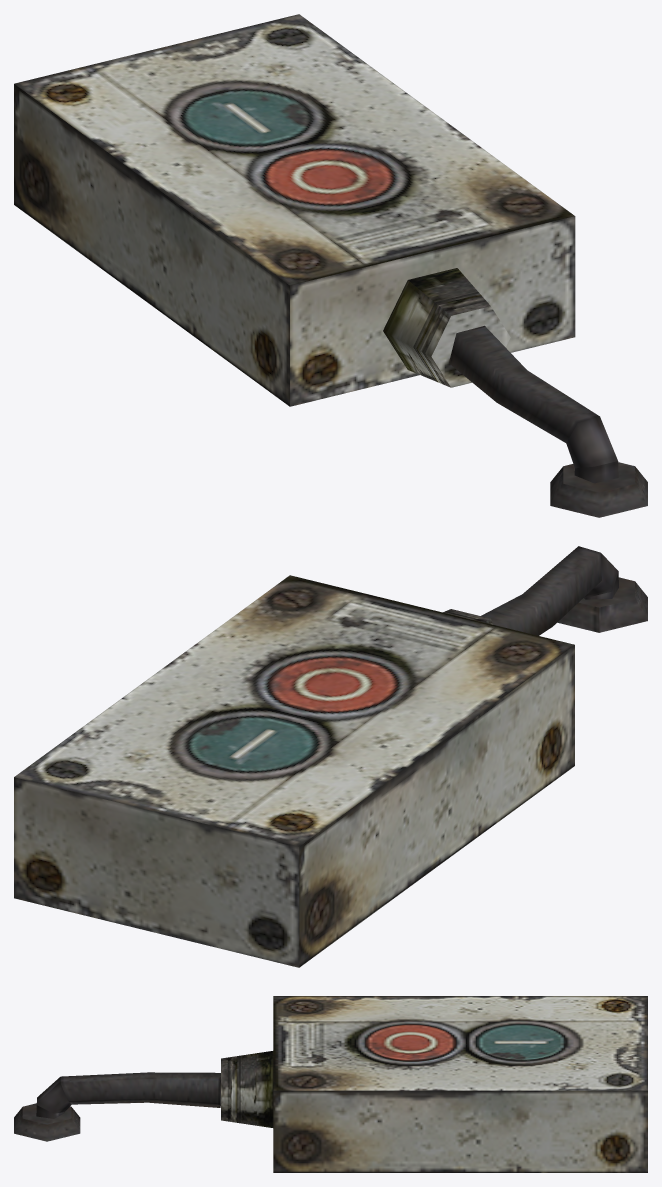
Rendered from Switch.FBX.
3 views of the same model, one above another, from view 1: azimuth 30°, elevation 25°; view 2: azimuth 150°, elevation 25°; view 3: azimuth 270°, elevation 25° (orthographic). The views are drawn at different scales.
Visible parts, largest first — view 1: Switch; view 2: Switch; view 3: Switch.
Boxes of the visible parts, <box> form: Switch: <box>14,14,647,517</box>; Switch: <box>14,546,647,967</box>; Switch: <box>14,996,647,1172</box>.
Size of the model in its own units: 12.35 by 35.04 by 5.05.
1 material, 1 textured.
